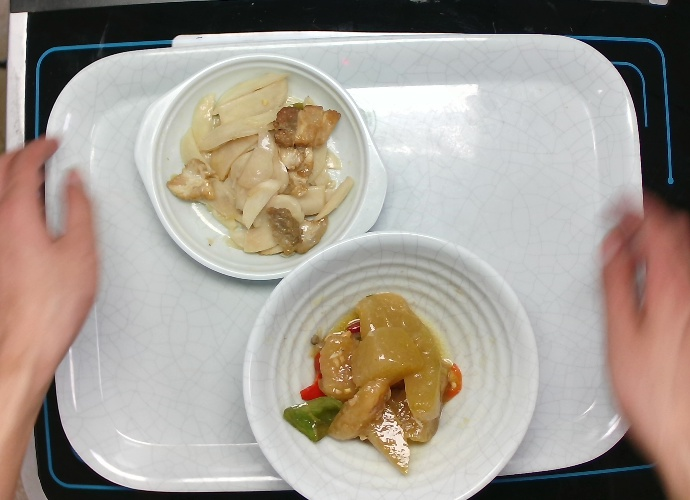JYsf-Shuang_Er_Pan: (133, 50, 395, 285)
JYsf-Xiao_Tang_Wan: (241, 224, 550, 500)
